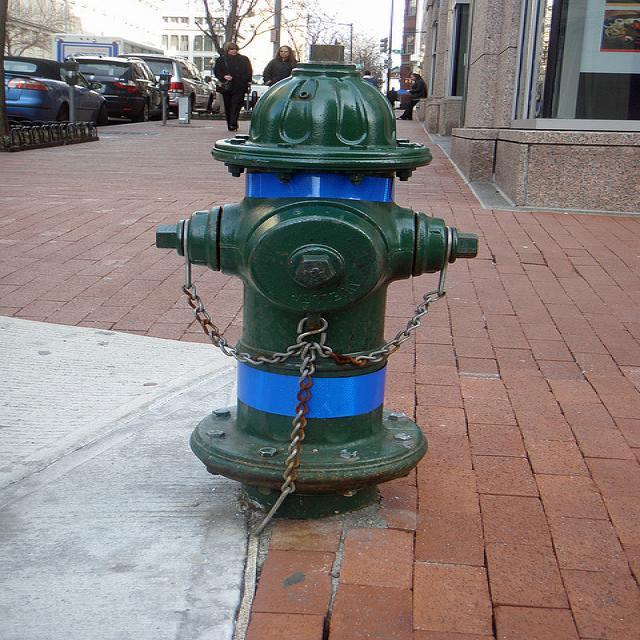fire_hydrant: (156, 48, 475, 533)
